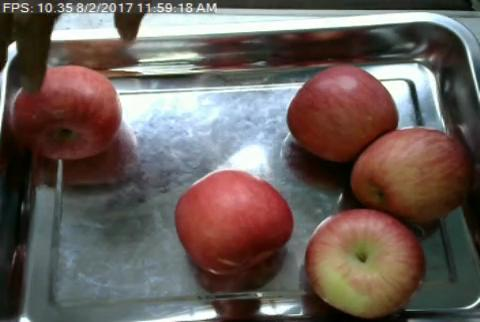apple: (305, 208, 426, 317), (175, 169, 293, 277), (15, 67, 121, 159), (287, 64, 395, 154), (351, 130, 468, 212)
